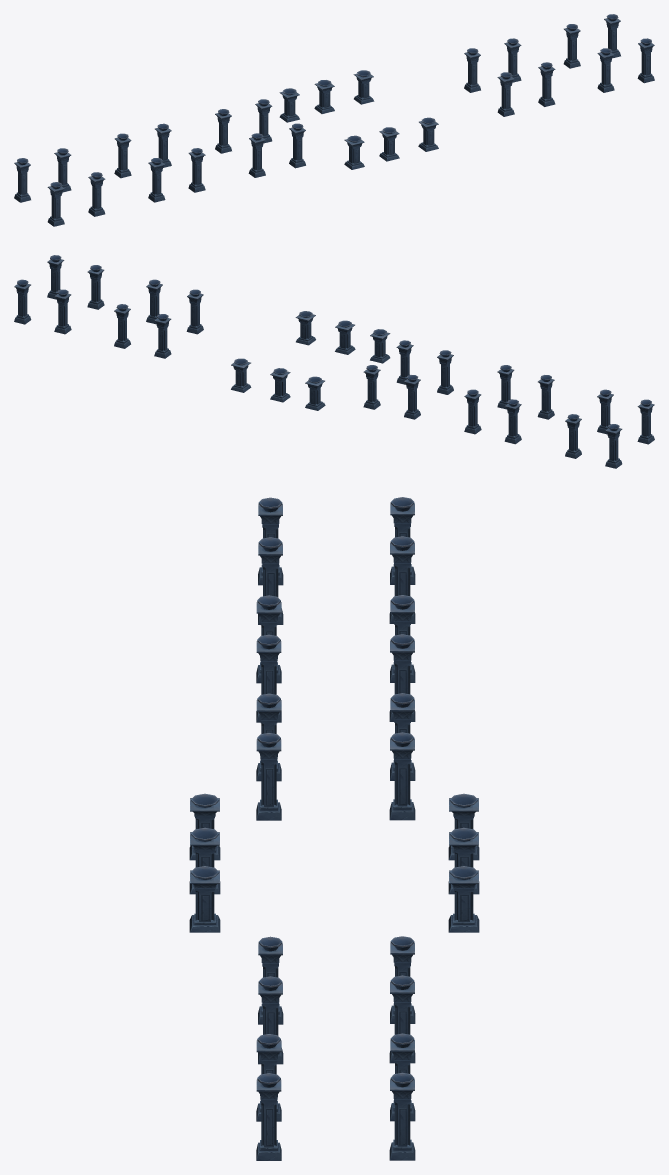
Rendered from wujian60.fbx.
3 renders of one model, top to bottom at view 1: azimuth 30°, elevation 25°; view 2: azimuth 150°, elevation 25°; view 3: azimuth 270°, elevation 25°, orthographic. The views are drawn at different scales.
Parts seen in each view (by area): view 1: wujian60; view 2: wujian60; view 3: wujian60.
Part boxes in pixels (x1,y1,x2,y2): wujian60: (14, 14, 654, 226); wujian60: (14, 255, 654, 468); wujian60: (189, 497, 479, 1160).
Size of the model in its own units: 8430 by 519 by 1757.
1 material, 1 textured.
